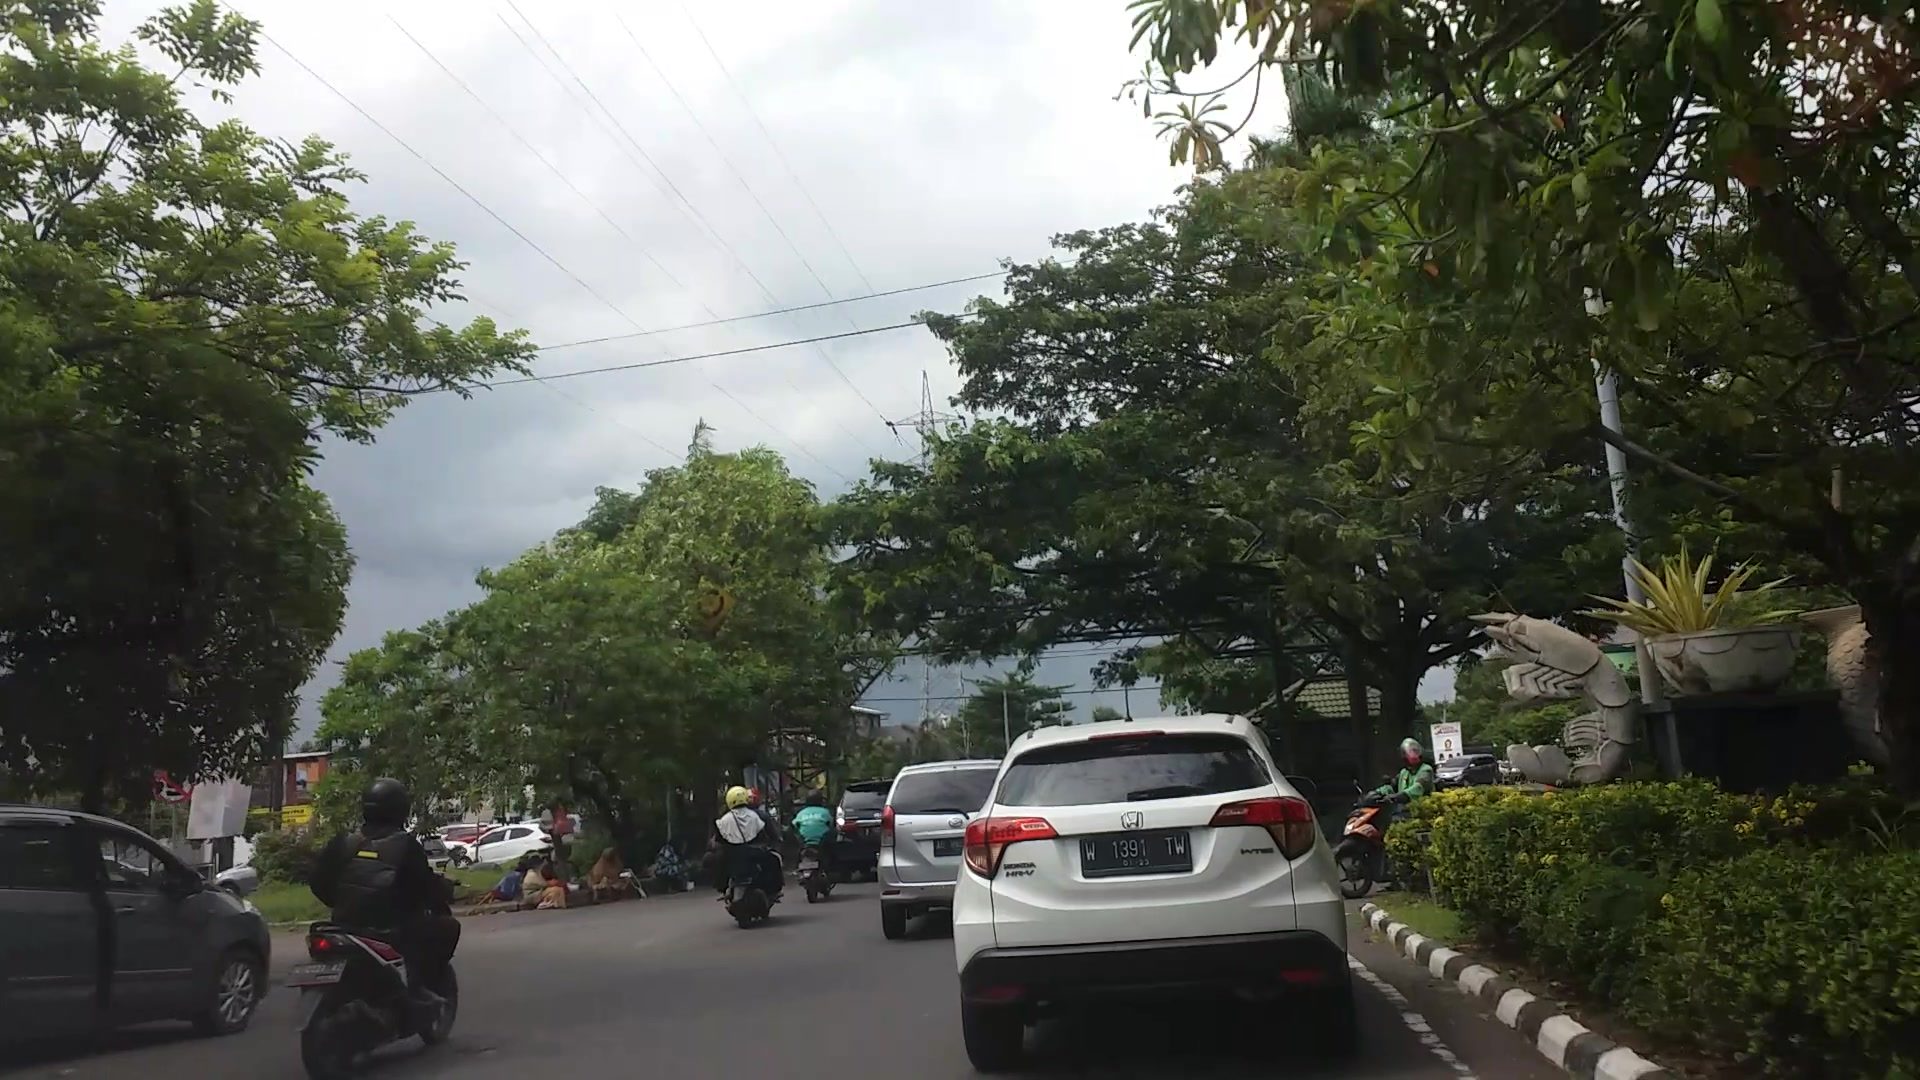plate_positive: (1079, 833, 1193, 878)
